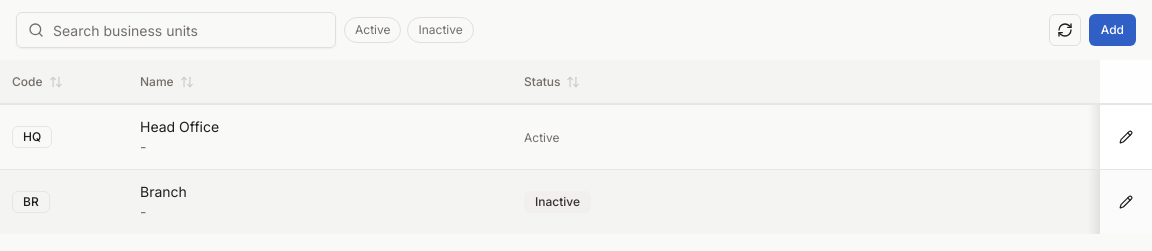
Scenario: BusinessUnitsSection › filters by search term
The width and height of the screenshot is (1152, 251).
expect the text "Head Office" is shown: met, box [140,117,219,137]
Type "branch" into the field with placeholder "Search business units" at (176, 30), box [16,12,336,48]
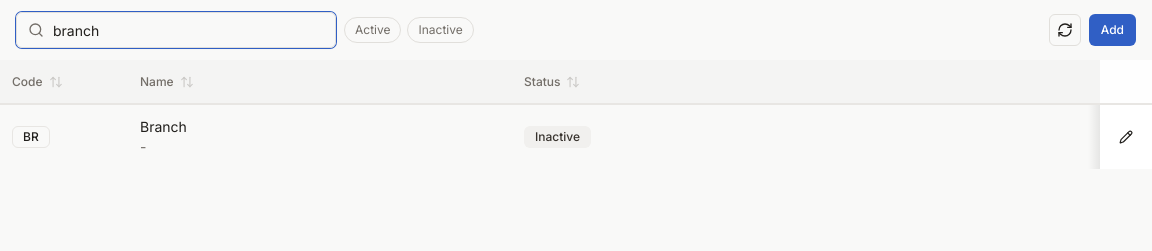
expect the text "Branch" is shown: met, box [140,117,187,137]
expect the text "Head Office" is gone: met
